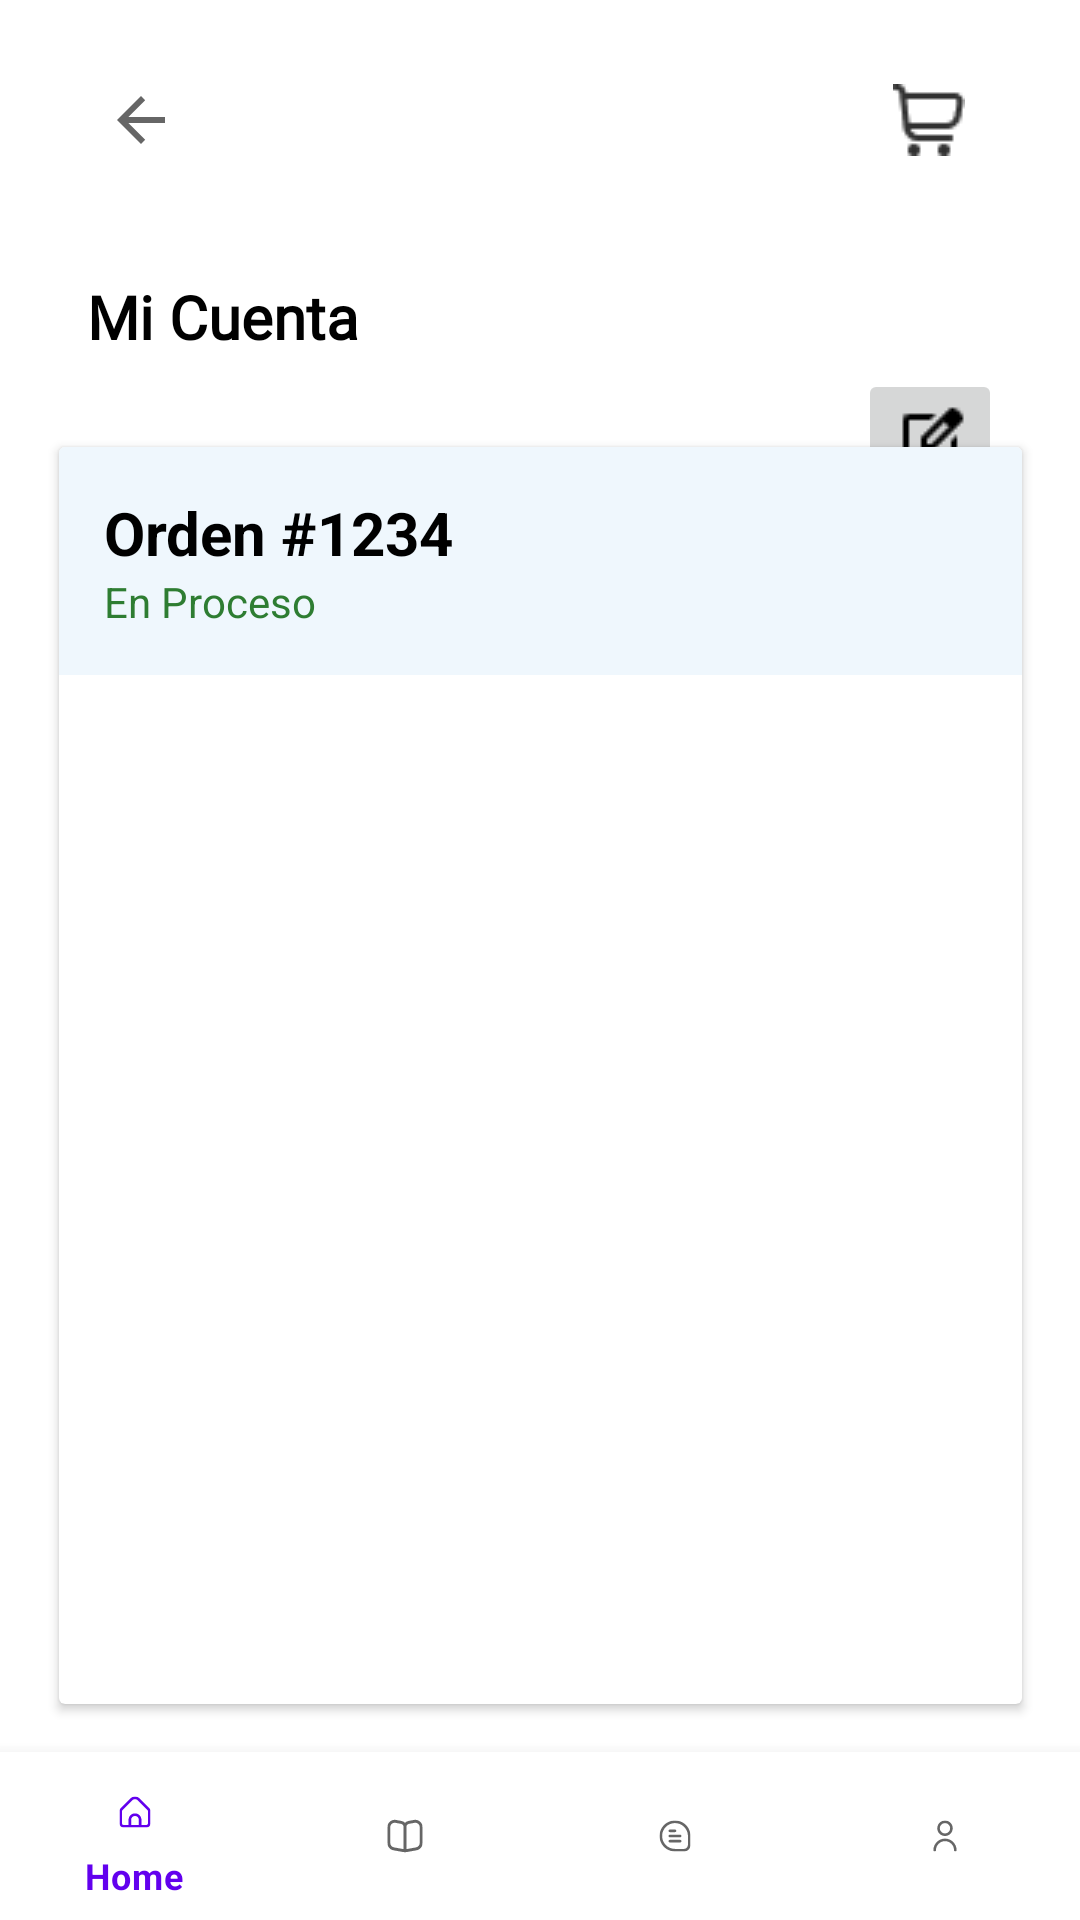

Named icons in this screenshot (1080 × 1920) and their bounding boxes, [x1, y1, x2, y2]:
Ir al carrito: [893, 84, 965, 156]
Volver hacia atrás: [117, 96, 165, 144]
